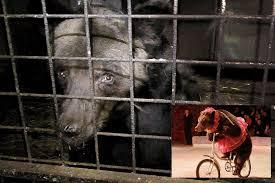Non_Gorille: (38, 1, 273, 183)
